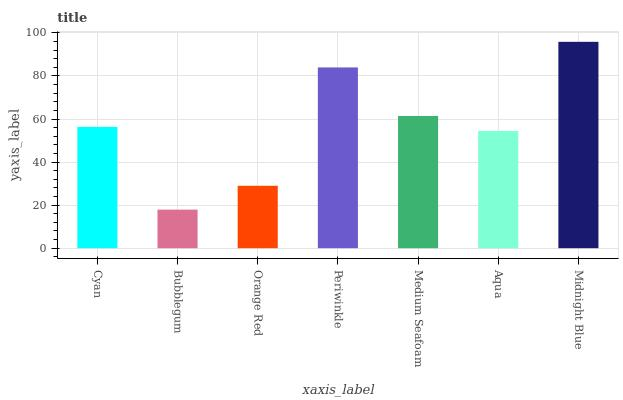axis: (50, 29, 63, 257)
label: (408, 268, 430, 374), (569, 265, 589, 356), (247, 265, 269, 342), (169, 266, 189, 339), (328, 269, 350, 332), (88, 267, 108, 306), (488, 267, 508, 304)
rectangle: (559, 42, 598, 248), (318, 67, 357, 247), (399, 115, 438, 248), (478, 132, 519, 250), (77, 126, 116, 250), (237, 184, 278, 250), (157, 210, 197, 249)
title: (54, 6, 95, 30)
